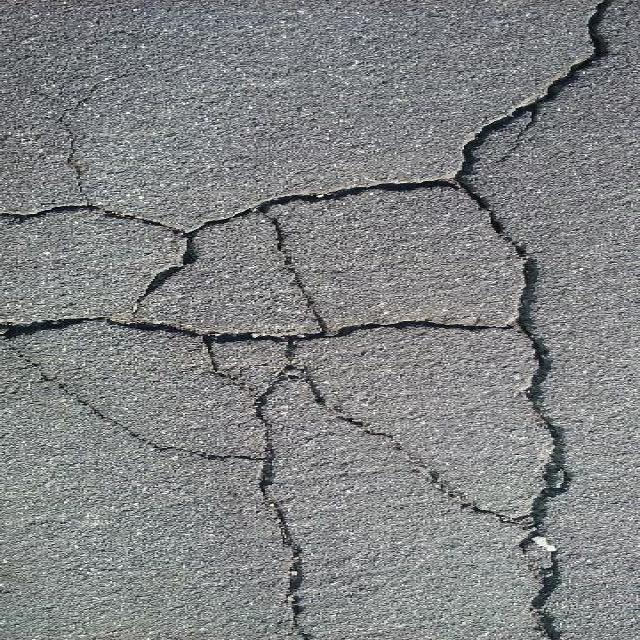GRIETA: (461, 0, 612, 173), (256, 481, 313, 639), (59, 87, 96, 190), (526, 546, 563, 639), (501, 106, 539, 159)
PIEL DE COCODRILO: (0, 169, 571, 537)
